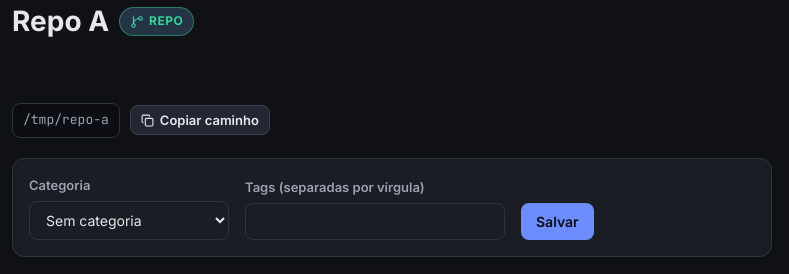
Test: ItemDetailPage › copies the local path to the clipboard
Click the button "Copiar caminho".
click(200, 120)  # box [130, 106, 270, 136]
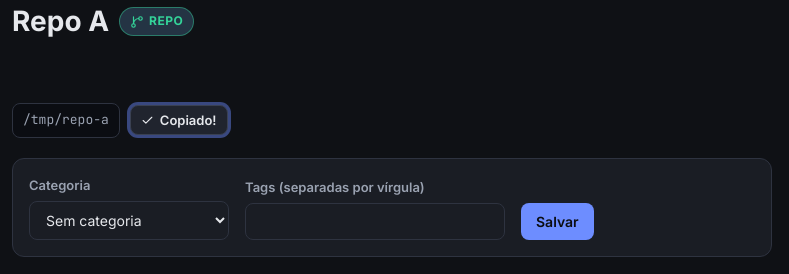
Check: the button "Copiado!" is shown, box [130, 106, 228, 136]
